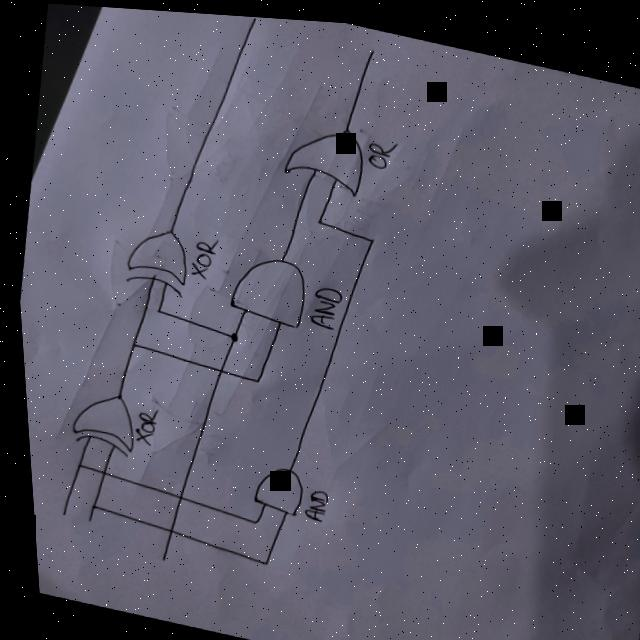crossover: (91, 467, 102, 477), (167, 491, 178, 500), (158, 525, 167, 534), (209, 364, 218, 372)
junction: (221, 329, 235, 341), (361, 230, 374, 242), (309, 212, 321, 224), (241, 514, 253, 525), (122, 339, 133, 349), (67, 460, 77, 470), (148, 305, 158, 314), (252, 556, 262, 565), (244, 374, 255, 382), (80, 503, 90, 510)
terminal: (363, 40, 379, 54), (245, 13, 260, 22), (50, 510, 61, 518), (150, 554, 159, 563), (77, 517, 85, 524)
text: (301, 280, 341, 330), (181, 231, 218, 279), (360, 130, 399, 169), (124, 402, 156, 446), (291, 482, 324, 523)
